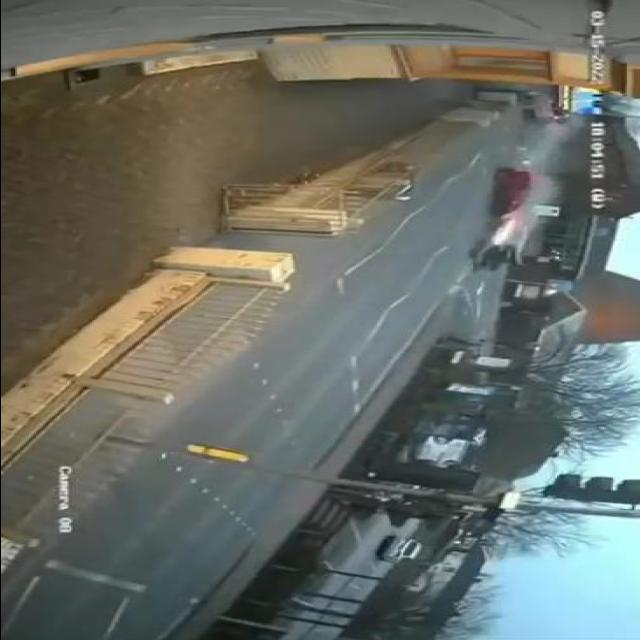accident: (456, 165, 560, 271)
